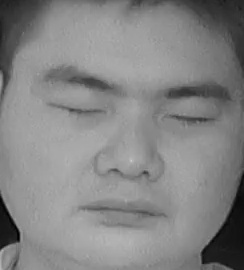blink: (47, 93, 106, 128), (164, 101, 216, 137)
mouth: (77, 186, 169, 236)
